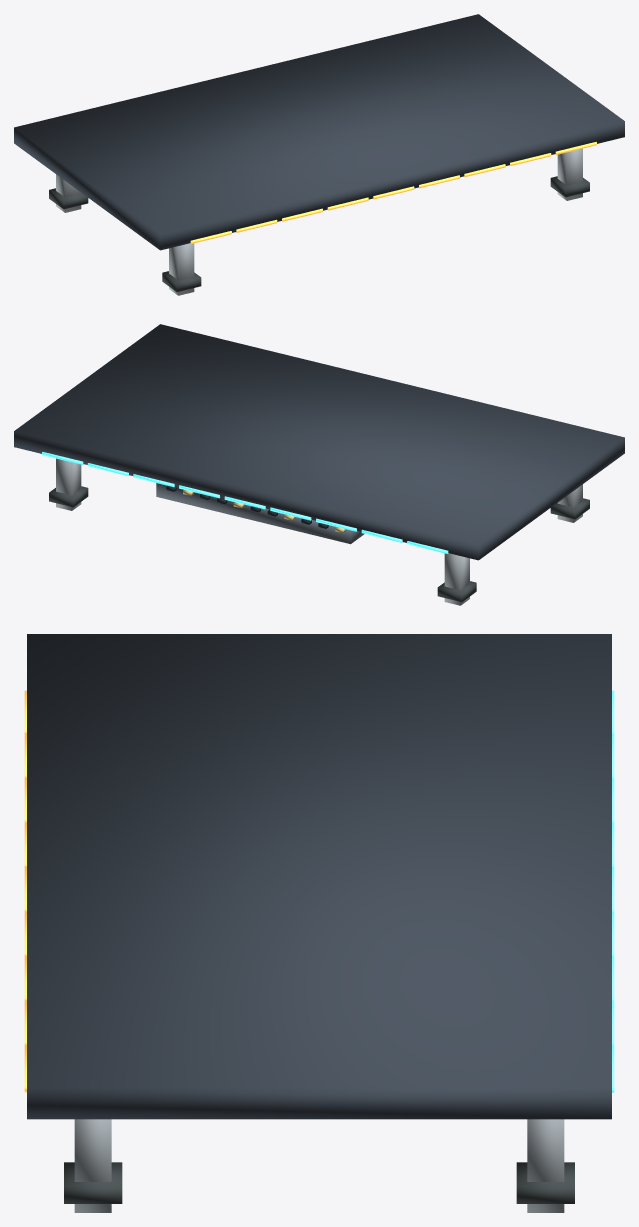
The model's file is 00_L94_AssemblyBenchFrame.fbx.
The picture shows the model from 3 angles, top to bottom: view 1: azimuth 30°, elevation 25°; view 2: azimuth 150°, elevation 25°; view 3: azimuth 270°, elevation 25°; orthographic projection. The views are drawn at different scales.
Visible parts, largest first — view 1: L94_AssemblyBenchFrame; view 2: L94_AssemblyBenchFrame; view 3: L94_AssemblyBenchFrame.
Boxes of the visible parts, left/top/right/bottom form: L94_AssemblyBenchFrame: left=14, top=14, right=624, bottom=295; L94_AssemblyBenchFrame: left=14, top=324, right=624, bottom=605; L94_AssemblyBenchFrame: left=24, top=634, right=614, bottom=1212.
Bounding box in the file's own units: 5.5 × 0.875 × 3.02.
